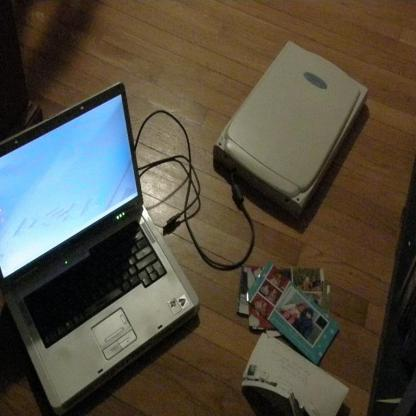board: (0, 81, 201, 412)
